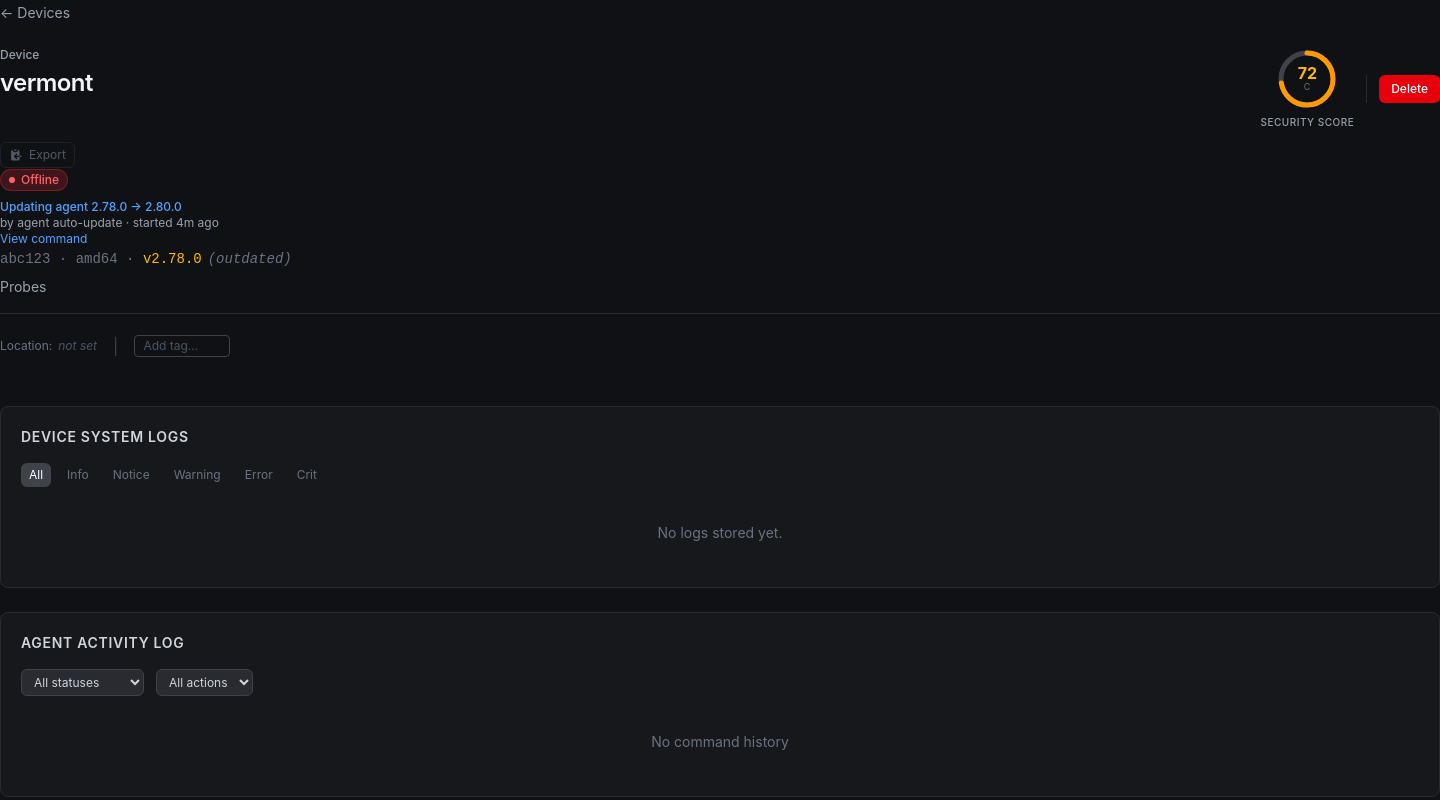
Test: EXPECT-002 [AC-023] header link opens the read-only record › opens the record in a modal with the details and the linked server events
Expected: the heading "vermont" is shown, [0,68,93,97]
Click the button "View command": (44, 239) [0,231,87,247]
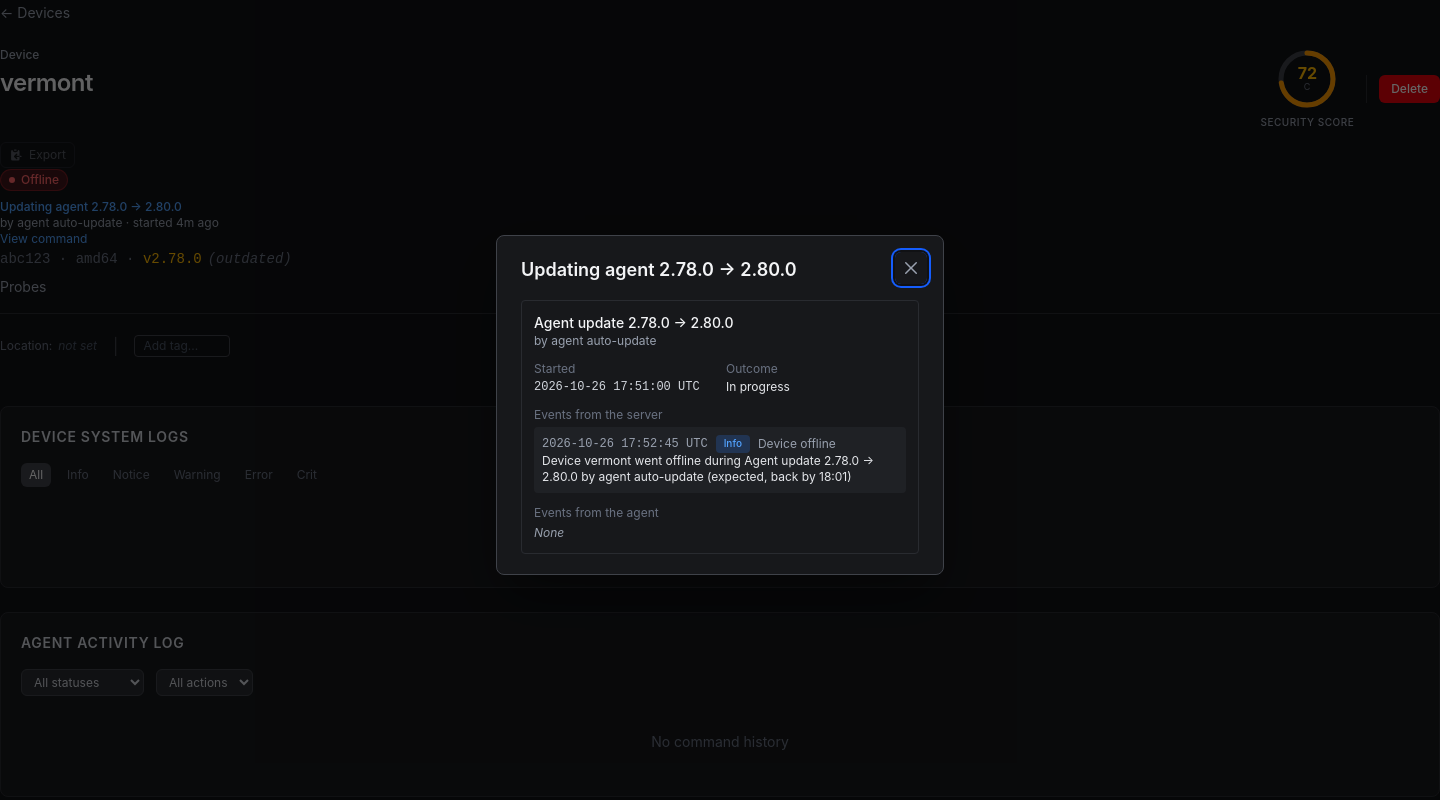
Expected: the element with test id "self-update-details" is shown, [534,313,906,541]
Expected: the text "Agent update 2.78.0 → 2.80.0" is shown, [534,314,734,331]
Expected: the text "by agent auto-update" is shown, [534,333,656,348]
